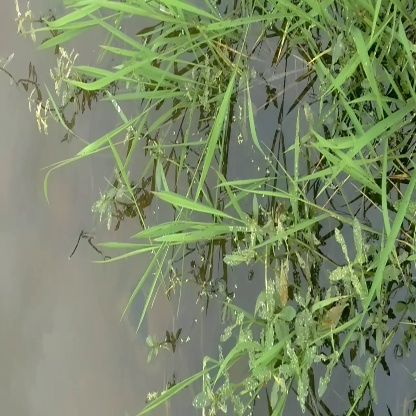grass: (123, 209, 240, 260)
